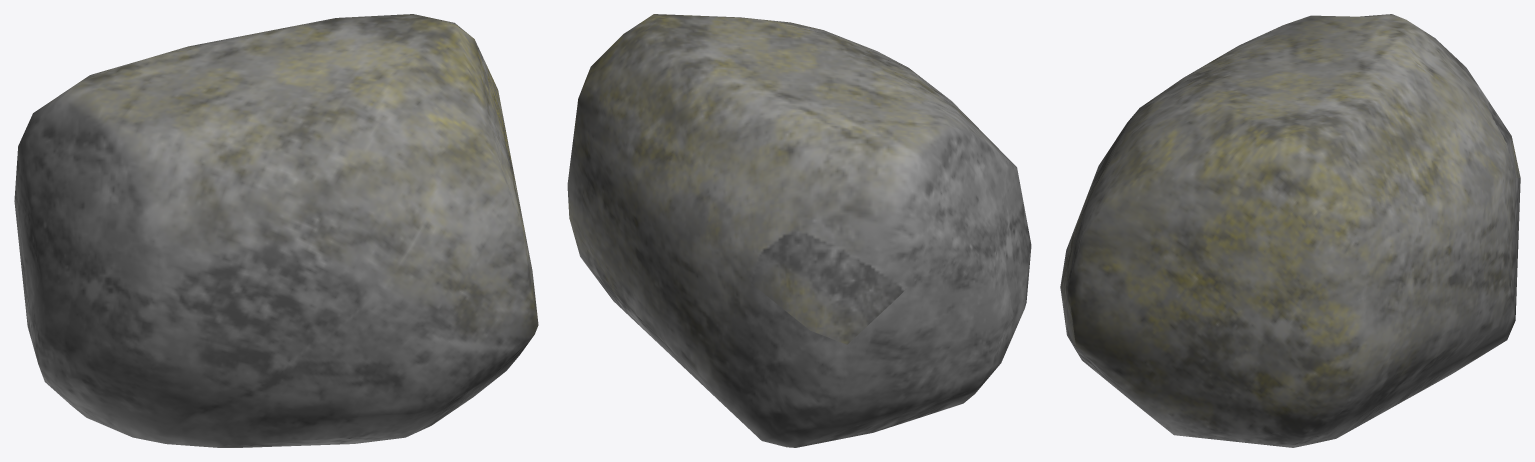
The model's file is rock.fbx.
3 renders of one model, left to right at view 1: azimuth 30°, elevation 25°; view 2: azimuth 150°, elevation 25°; view 3: azimuth 270°, elevation 25°, orthographic. The views are drawn at different scales.
Visible parts, largest first — view 1: kamenvelky_lp.001; view 2: kamenvelky_lp.001; view 3: kamenvelky_lp.001.
Part boxes in pixels (x1=…): kamenvelky_lp.001: x1=14, y1=14, x2=538, y2=447; kamenvelky_lp.001: x1=567, y1=14, x2=1031, y2=447; kamenvelky_lp.001: x1=1060, y1=14, x2=1520, y2=447.
Size of the model in its own units: 67.39 by 49.25 by 60.3.
